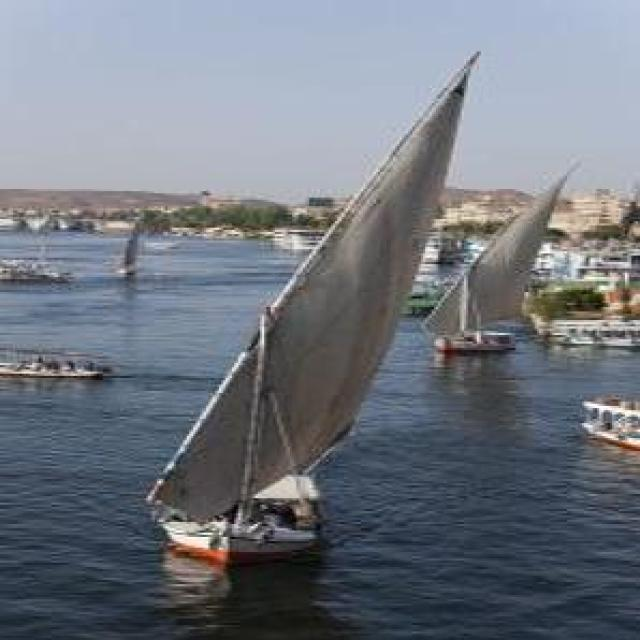houseboat: (0, 330, 107, 386), (573, 389, 640, 451)
sailboat: (145, 39, 482, 559), (425, 157, 580, 360), (102, 209, 148, 275)
